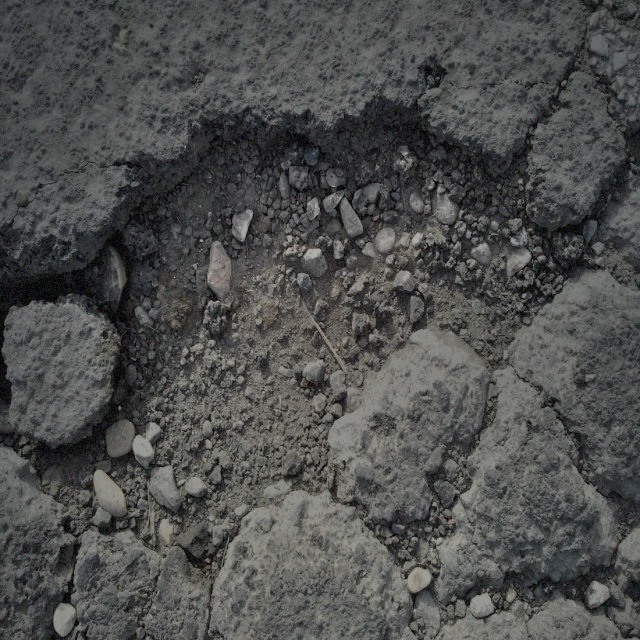pothole: (50, 73, 576, 565)
